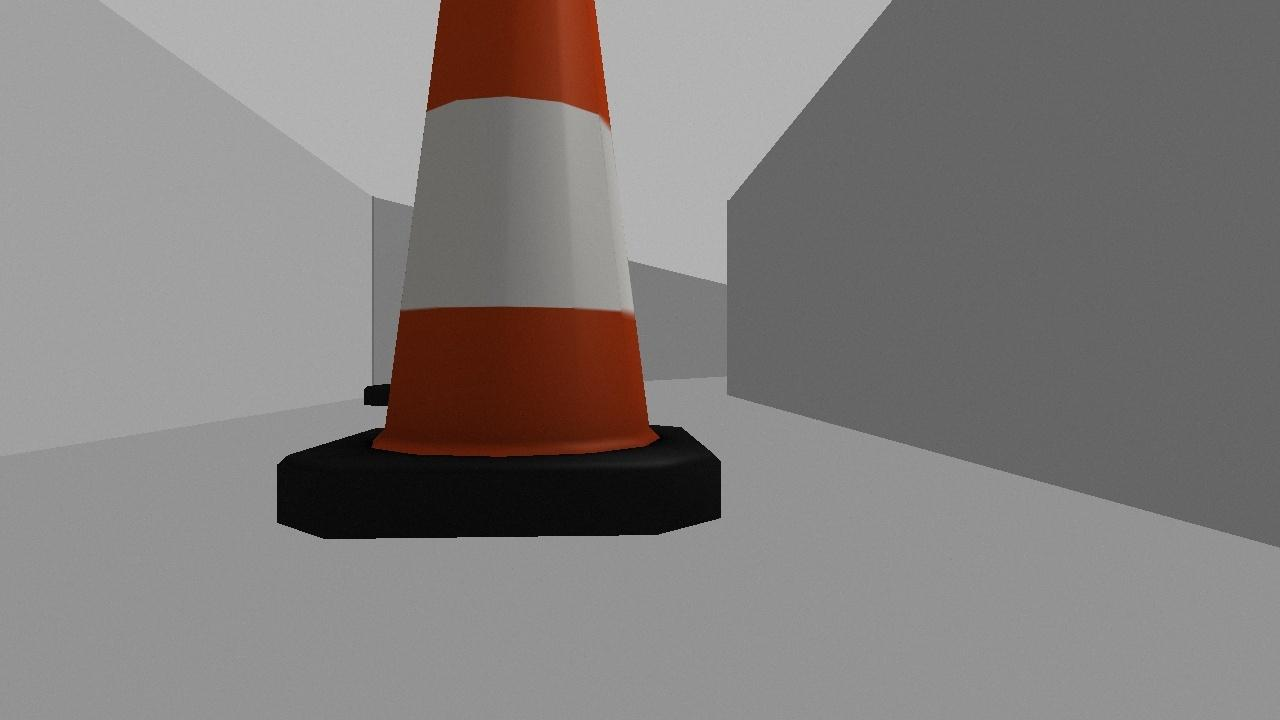cone_barrel: (258, 0, 730, 557)
